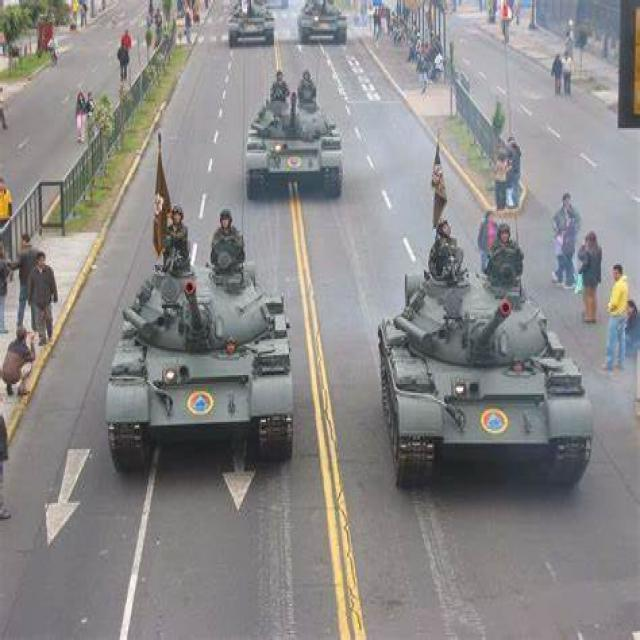Tanks: (378, 218, 594, 498), (104, 202, 292, 478), (247, 72, 342, 207), (222, 0, 277, 50), (297, 0, 351, 49)
